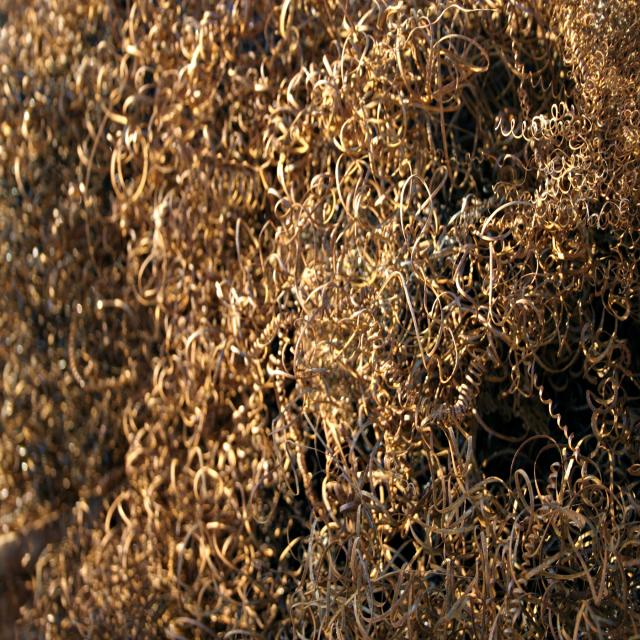metal: (64, 38, 470, 489)
